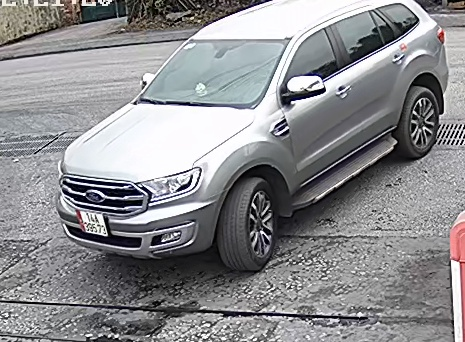vehicle plate: (71, 209, 110, 238)
